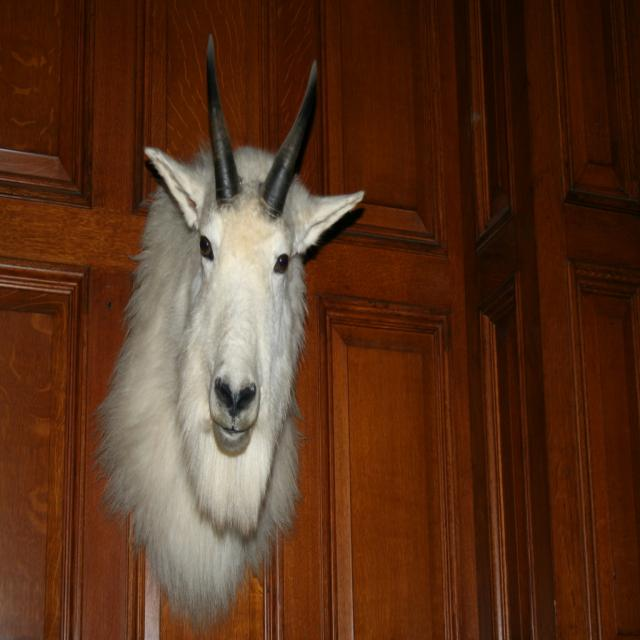Goat: (92, 34, 364, 629)
